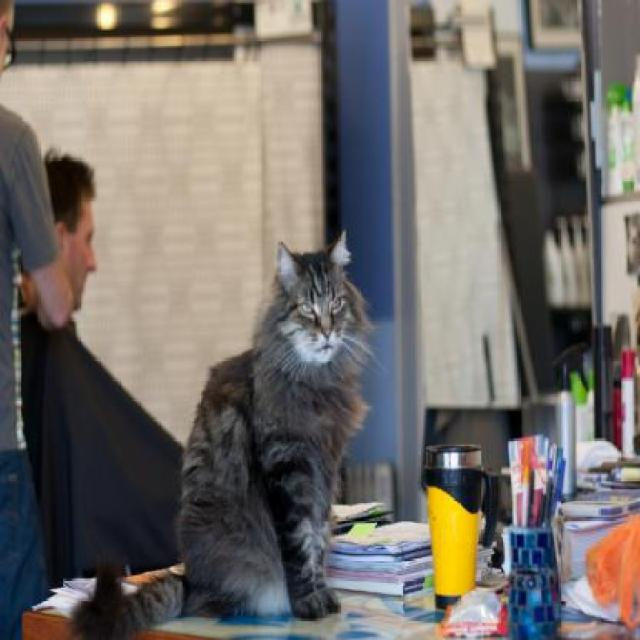Person: (0, 0, 75, 638), (628, 215, 638, 274)
